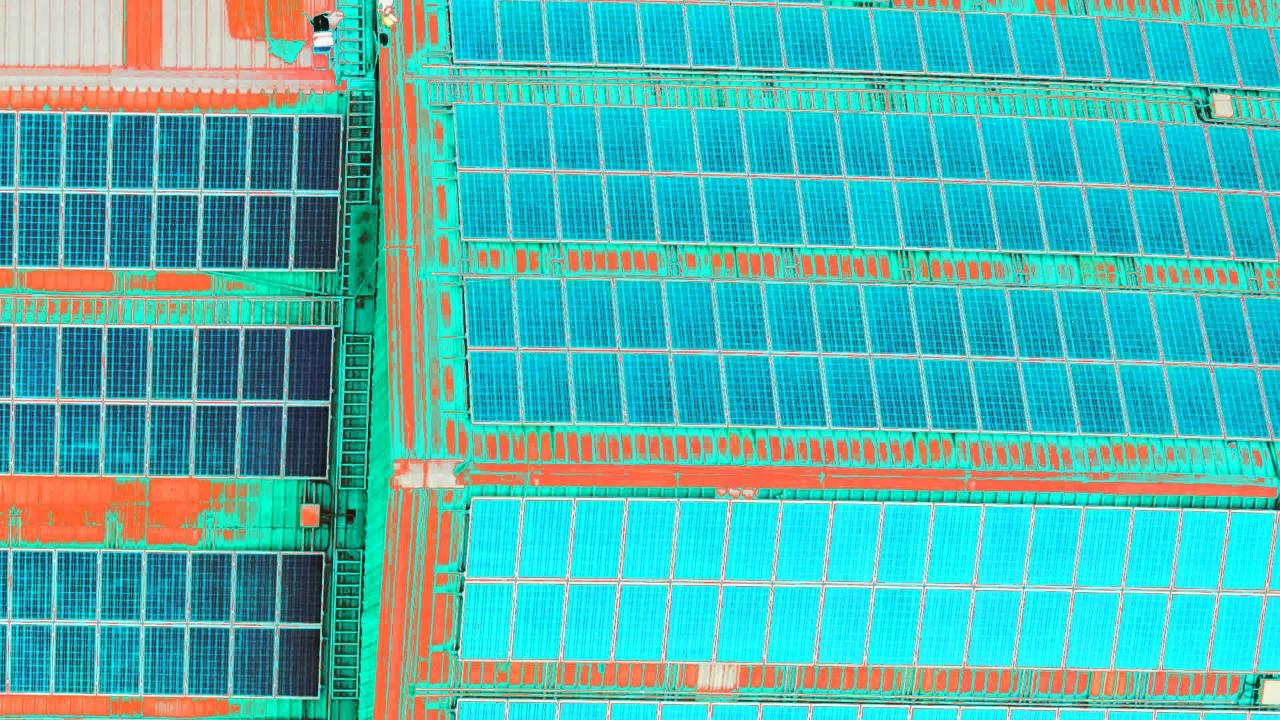clean: (9, 108, 338, 275), (8, 326, 325, 485), (11, 550, 324, 698)
dirty: (469, 497, 1280, 679), (462, 276, 1280, 442), (453, 99, 1280, 262), (457, 2, 1280, 87)
